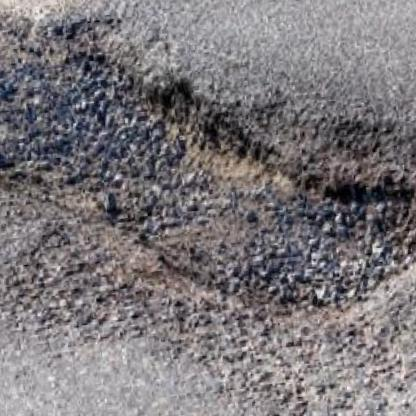pothole: (0, 54, 416, 378)
